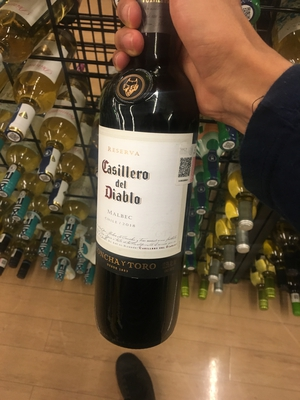casillero del diablo malbec: (93, 13, 204, 341)
